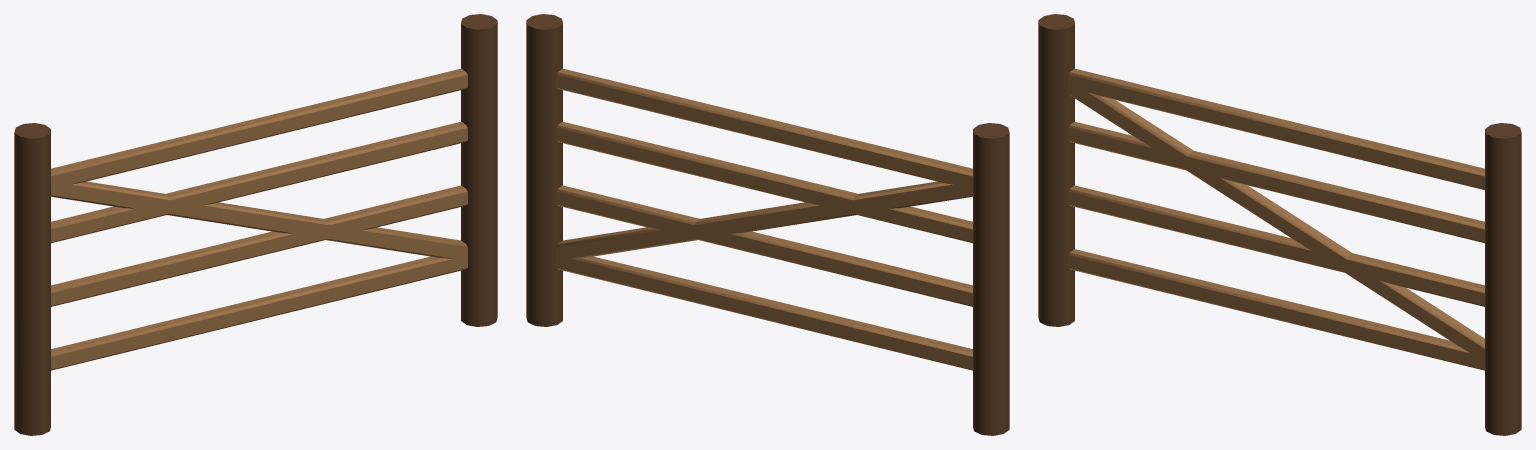
File: tranquera.glb
The picture shows the model from 3 angles, left to right: view 1: azimuth 30°, elevation 25°; view 2: azimuth 150°, elevation 25°; view 3: azimuth 330°, elevation 25°; orthographic projection.
Parts seen in each view (by area): view 1: tranquera; view 2: tranquera; view 3: tranquera.
Part boxes in pixels (box(x1,y1,x2,y2)): tranquera: box(14, 14, 497, 435); tranquera: box(526, 14, 1009, 435); tranquera: box(1038, 14, 1521, 435).
Bounding box in the file's own units: 2.35 × 1.4 × 0.16.
